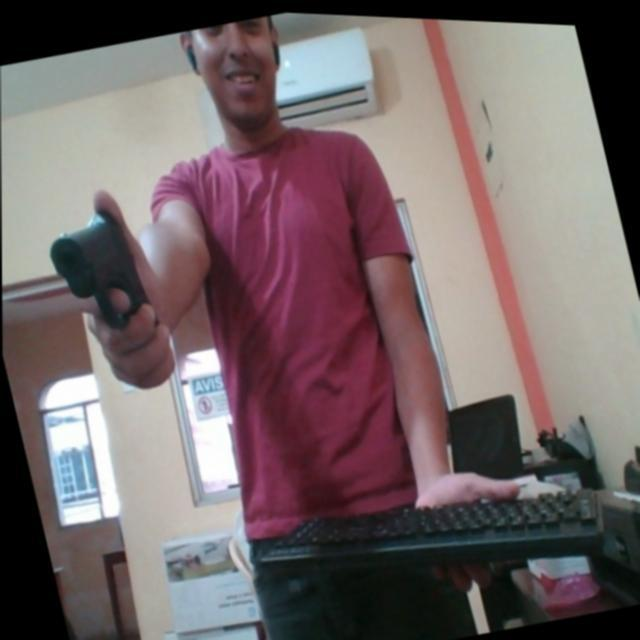weapon: (38, 196, 159, 346)
